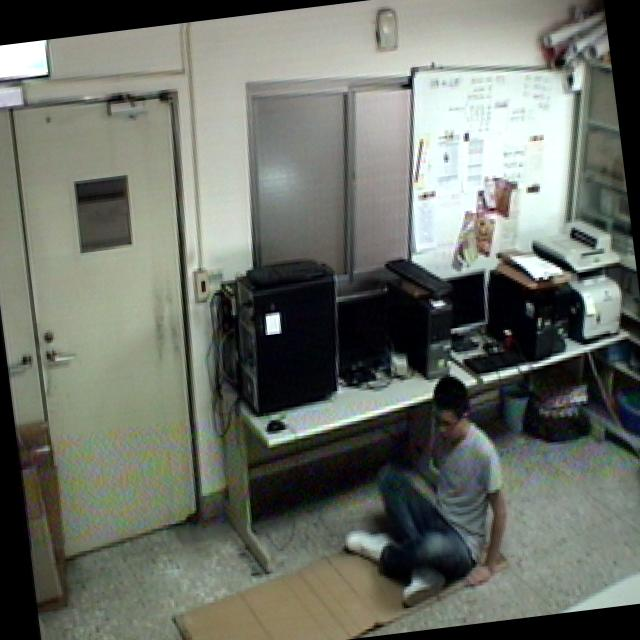sit: (322, 358, 531, 619)
